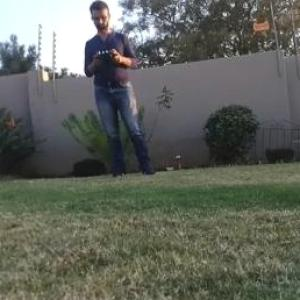follow: (80, 0, 164, 182)
